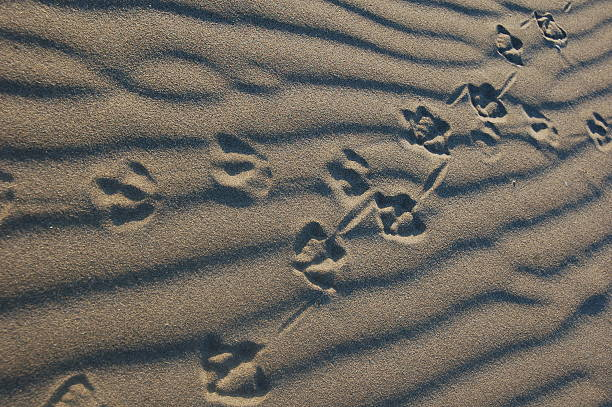animal_foot_print: (447, 72, 515, 141), (201, 337, 268, 405), (93, 161, 159, 226), (211, 133, 271, 198), (293, 221, 345, 292), (449, 73, 515, 123), (401, 106, 449, 154), (374, 192, 425, 236), (327, 148, 369, 198), (44, 374, 107, 406), (522, 105, 559, 147), (533, 11, 567, 48), (496, 24, 523, 65), (586, 112, 611, 151), (0, 170, 14, 222)
